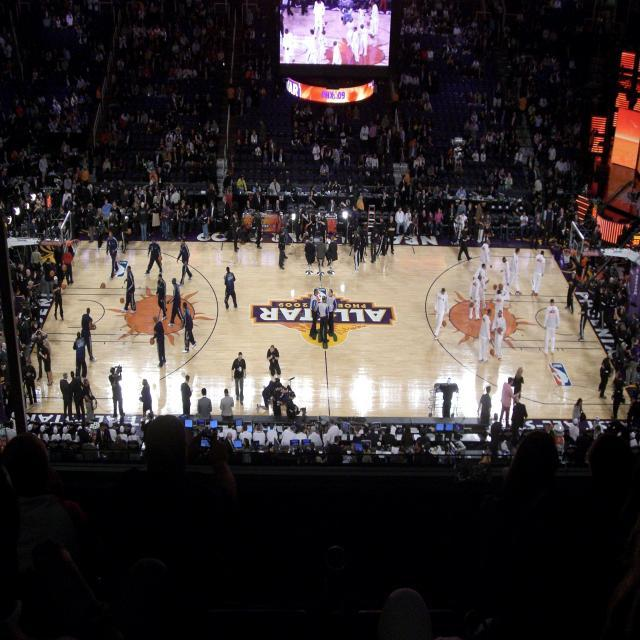rim: (61, 260, 68, 272), (61, 280, 68, 292), (490, 346, 496, 356), (100, 280, 106, 290), (120, 294, 126, 303), (498, 280, 503, 290), (497, 327, 503, 333)
